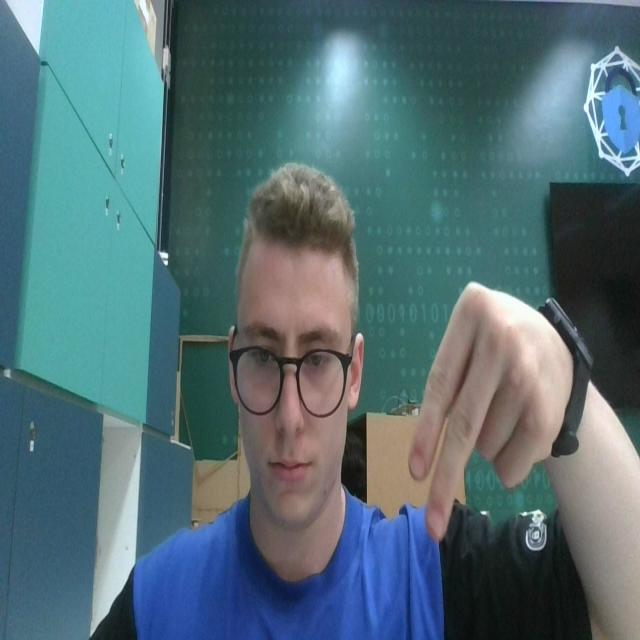N: (401, 268, 550, 550)
